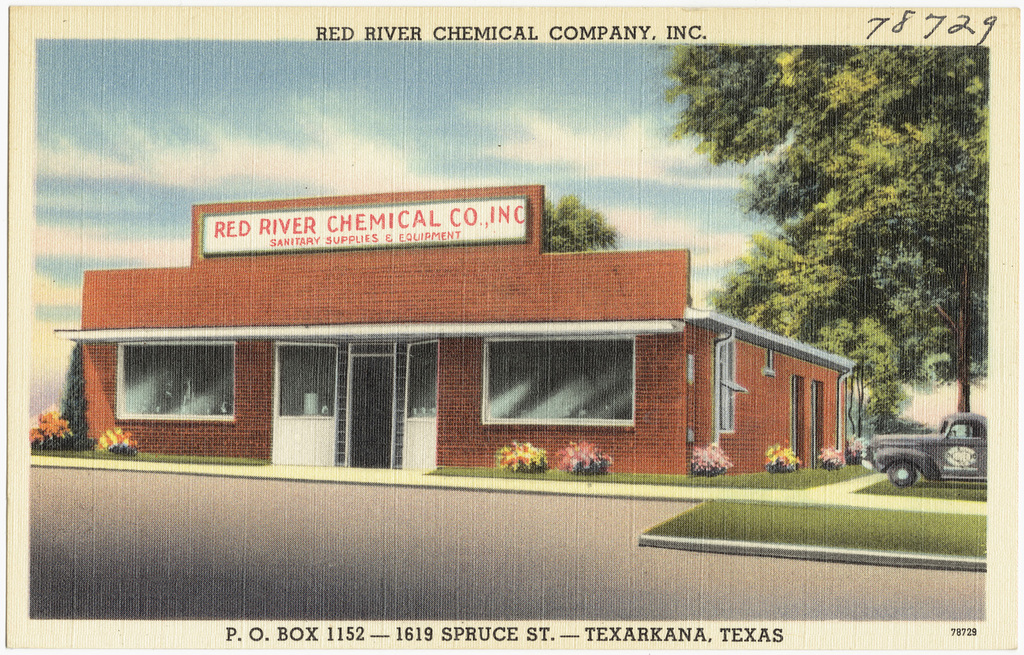Car: (858, 411, 990, 483)
